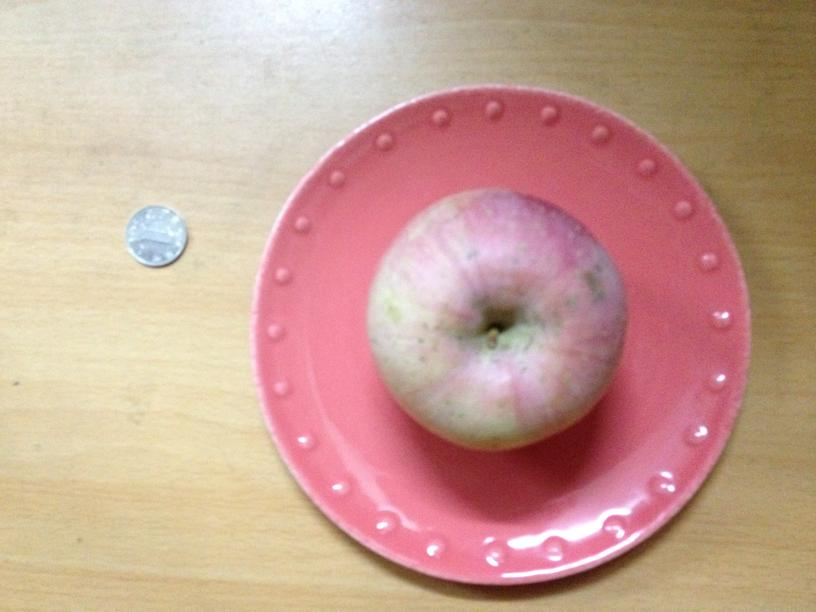apple: (363, 183, 629, 451)
coin: (126, 202, 188, 267)
